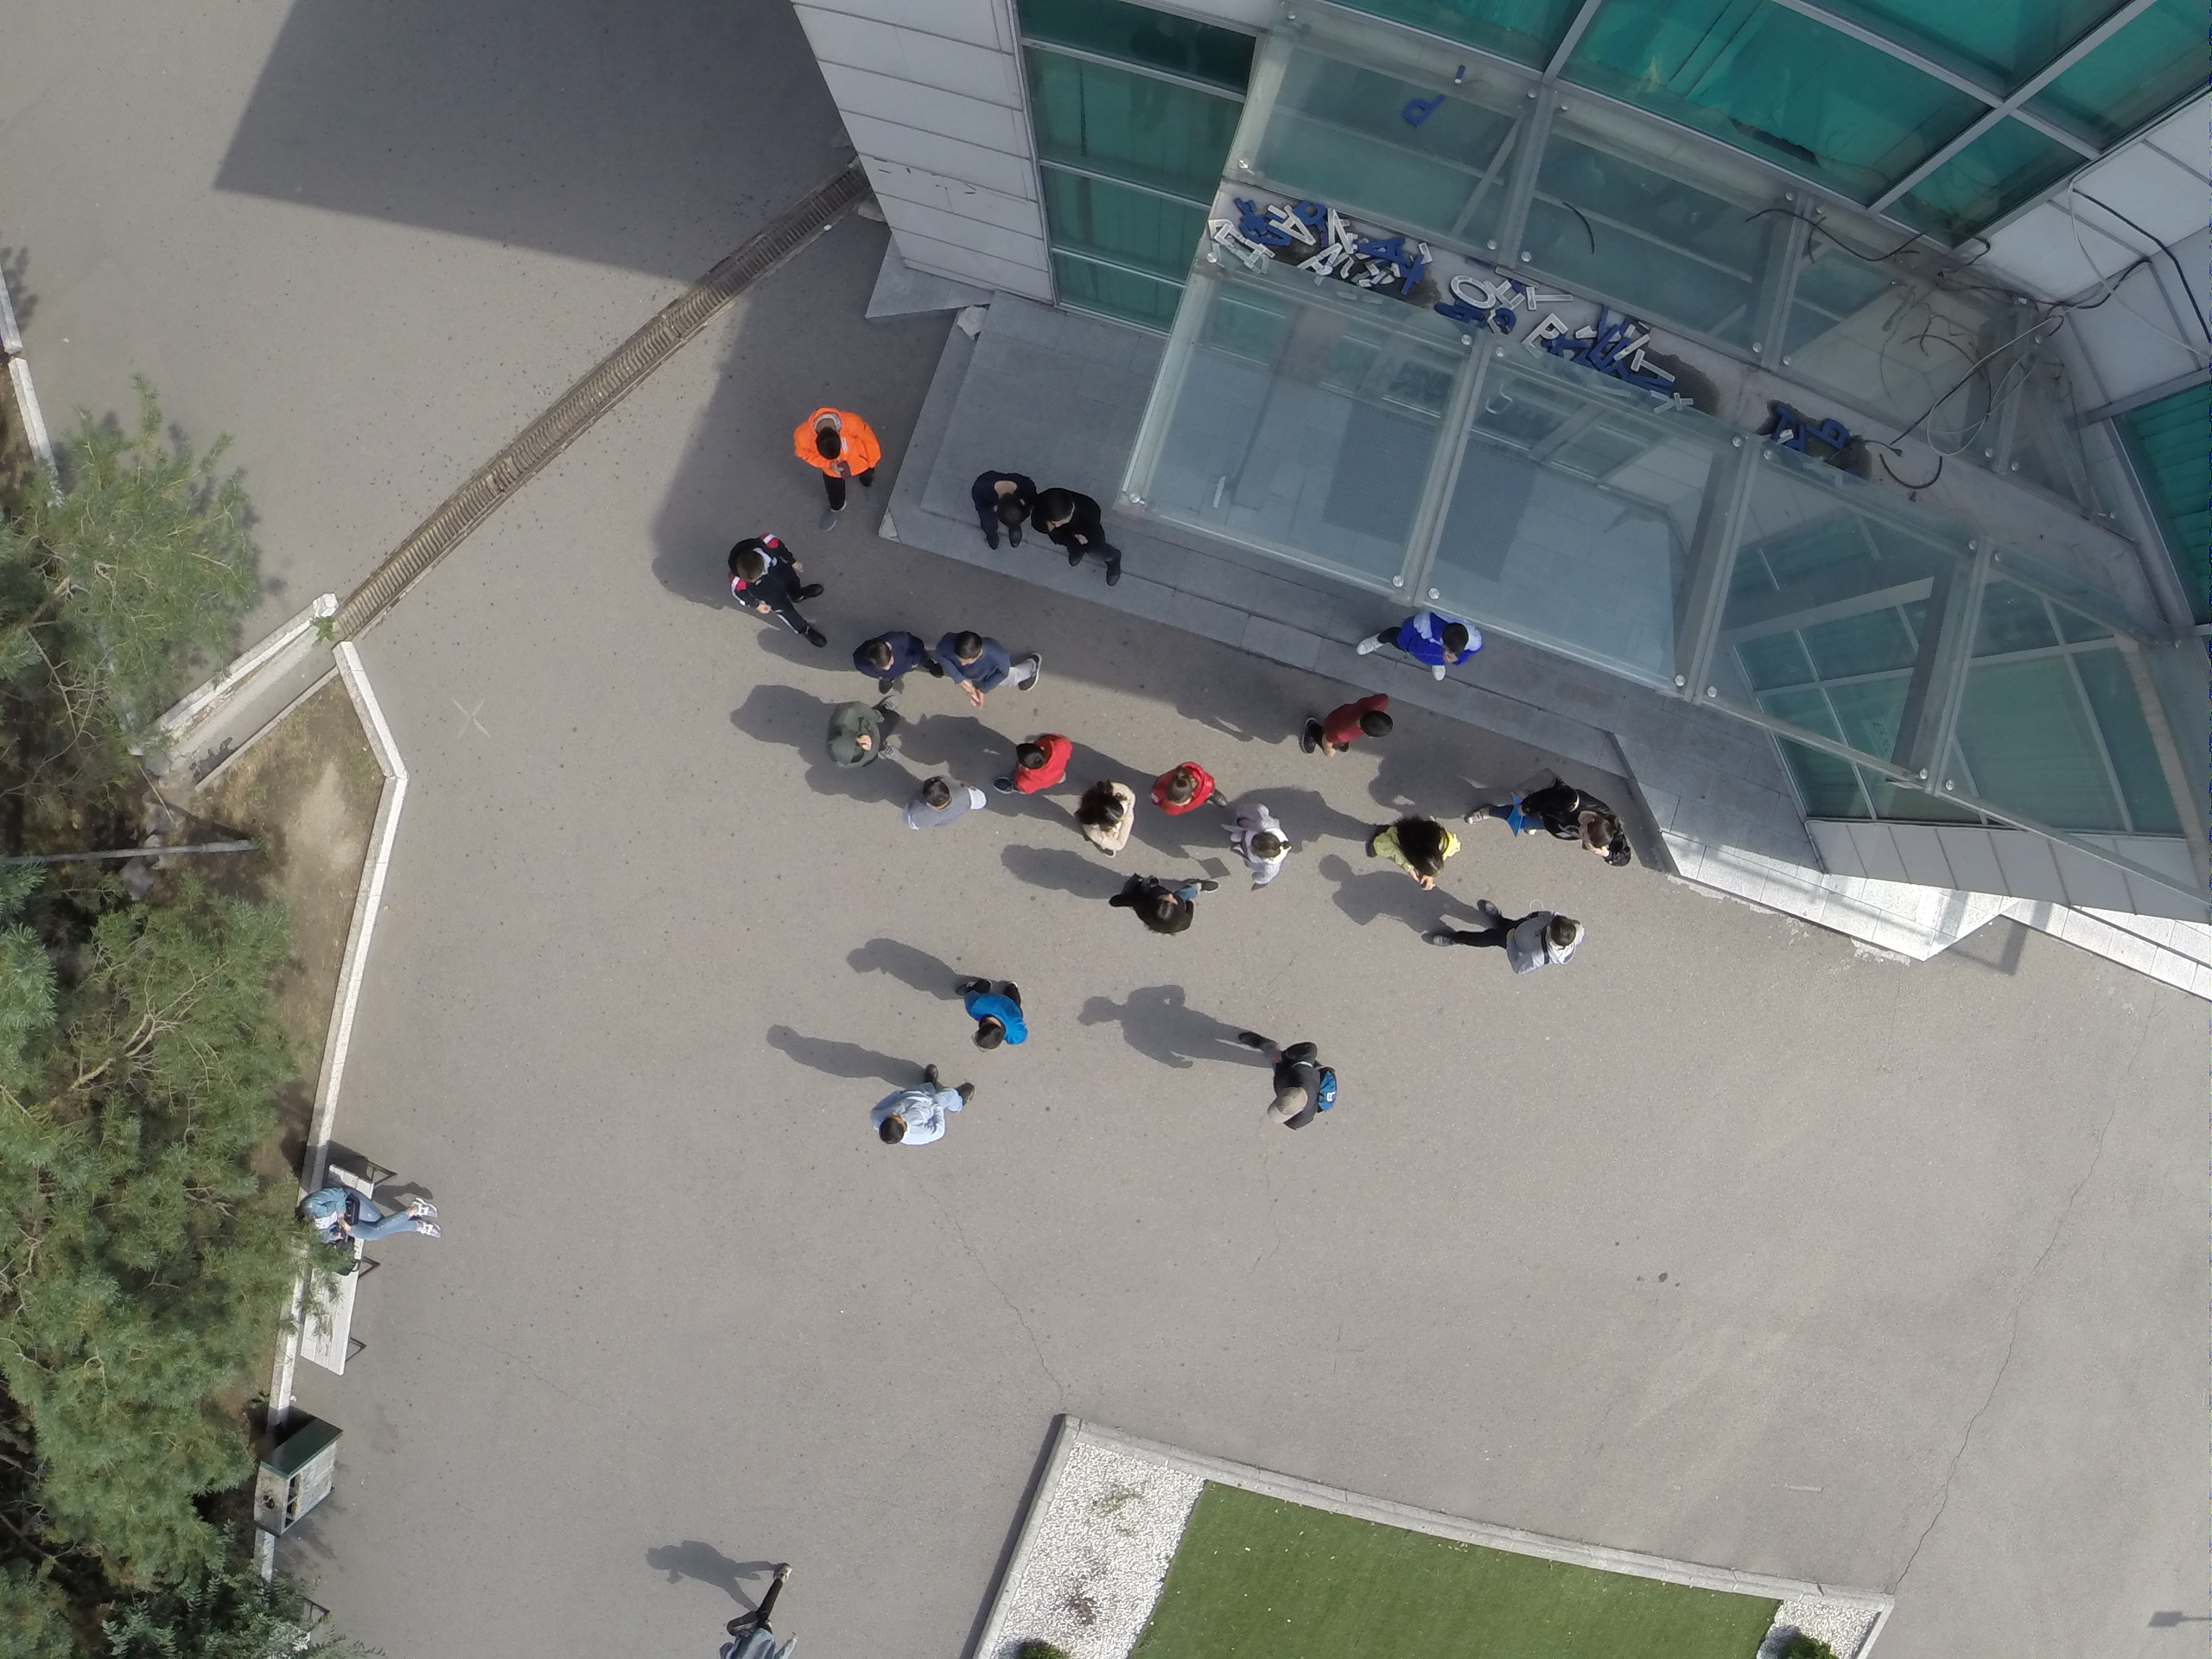person: (1467, 779, 1634, 869), (721, 532, 830, 651), (1426, 895, 1586, 976), (787, 399, 881, 529), (1236, 1027, 1338, 1132), (1358, 602, 1485, 689), (1032, 480, 1125, 585), (864, 1063, 976, 1151), (1366, 810, 1463, 893), (721, 1562, 804, 1659), (1103, 873, 1223, 938), (1298, 685, 1399, 760), (302, 1186, 443, 1237), (1226, 799, 1294, 892), (957, 970, 1029, 1052), (990, 724, 1072, 798), (823, 694, 907, 764), (901, 771, 988, 835), (1149, 762, 1227, 826), (1069, 782, 1135, 858), (969, 471, 1031, 543)
